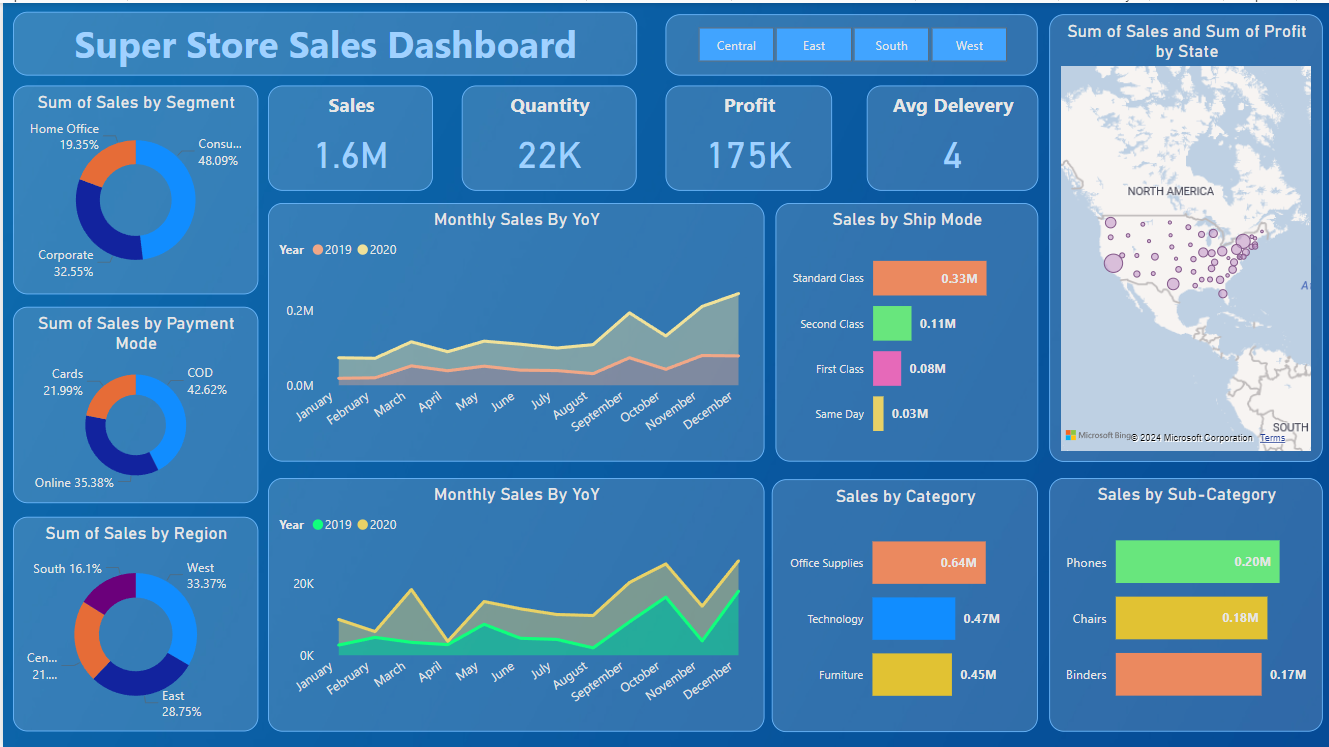

The dashboard page shown, as its layout file describes it:
{"tool":"powerbi","page":{"name":"Dashboard","canvas":[1280,720],"ordinal":1},"visuals":[{"type":"clusteredBarChart","title":"Sales by Category","fields":{"Category":["SuperStore_Sales_Dataset.Category"],"Y":["Sum(SuperStore_Sales_Dataset.Sales)"]},"box":[742,459.7,257,243.7],"z":0},{"type":"clusteredBarChart","title":"Sales by Sub-Category","fields":{"Y":["Sum(SuperStore_Sales_Dataset.Sales)"],"Category":["SuperStore_Sales_Dataset.Sub-Category"]},"box":[1009.8,458.4,264.2,244.9],"z":1000},{"type":"clusteredBarChart","title":"Sales by Ship Mode","fields":{"Y":["Sum(SuperStore_Sales_Dataset.Sales)"],"Category":["SuperStore_Sales_Dataset.Ship Mode"]},"box":[745.6,193,253.4,249.7],"z":2000},{"type":"stackedAreaChart","title":"Monthly Sales By YoY","fields":{"Category":["SuperStore_Sales_Dataset.Order Date.Variation.Date Hierarchy.Month","SuperStore_Sales_Dataset.Order Date.Variation.Date Hierarchy.Day"],"Y":["Sum(SuperStore_Sales_Dataset.Sales)"],"Series":["SuperStore_Sales_Dataset.Order Date.Variation.Date Hierarchy.Year"]},"box":[255.8,193,479,249.7],"z":3000},{"type":"stackedAreaChart","title":"Monthly Sales By YoY","fields":{"Category":["SuperStore_Sales_Dataset.Order Date.Variation.Date Hierarchy.Month","SuperStore_Sales_Dataset.Order Date.Variation.Date Hierarchy.Day"],"Series":["SuperStore_Sales_Dataset.Order Date.Variation.Date Hierarchy.Year"],"Y":["Sum(SuperStore_Sales_Dataset.Profit)"]},"box":[255.8,458.7,479,244.9],"z":4000},{"type":"map","fields":{"Category":["SuperStore_Sales_Dataset.State"],"Size":["Sum(SuperStore_Sales_Dataset.Sales)"]},"box":[1009.8,10.9,264.2,431.9],"z":5000},{"type":"donutChart","fields":{"Category":["SuperStore_Sales_Dataset.Segment"],"Y":["Sum(SuperStore_Sales_Dataset.Sales)"]},"box":[9.7,79.6,236.5,201.5],"z":6000},{"type":"donutChart","fields":{"Category":["SuperStore_Sales_Dataset.Payment Mode"],"Y":["Sum(SuperStore_Sales_Dataset.Sales)"]},"box":[9.7,293.2,236.5,189.4],"z":7000},{"type":"slicer","fields":{"Values":["SuperStore_Sales_Dataset.Region"]},"box":[639.4,10.9,359.5,59.1],"z":8000},{"type":"textbox","title":"Super Store Sales Dashboard","box":[9.7,8.4,602,61.5],"z":9000},{"type":"card","title":"Sales","fields":{"Values":["Sum(SuperStore_Sales_Dataset.Sales)"]},"box":[255.8,79.6,159.3,101.3],"z":10000},{"type":"card","title":"Profit","fields":{"Values":["Sum(SuperStore_Sales_Dataset.Profit)"]},"box":[639.4,79.6,160.5,101.3],"z":11000},{"type":"card","title":"Quantity","fields":{"Values":["Sum(SuperStore_Sales_Dataset.Quantity)"]},"box":[442.8,79.6,168.9,101.3],"z":12000},{"type":"card","title":"Avg Delevery","fields":{"Values":["Avg(SuperStore_Sales_Dataset.AvgDelicery)"]},"box":[833.7,79.6,165.3,101.3],"z":13000},{"type":"donutChart","fields":{"Category":["SuperStore_Sales_Dataset.Region"],"Y":["Sum(SuperStore_Sales_Dataset.Sales)"]},"box":[9.7,495.8,236.5,207.5],"z":14000}]}

Visuals, with their boxes in screenshot pixels (x1, y1, x2, y2), scaled from the page's 1280x720 canvas onto the 1329x747 screenshot:
"Sales by Category" clusteredBarChart: (x1=770, y1=477, x2=1037, y2=730)
"Sales by Sub-Category" clusteredBarChart: (x1=1048, y1=476, x2=1323, y2=730)
"Sales by Ship Mode" clusteredBarChart: (x1=774, y1=200, x2=1037, y2=459)
"Monthly Sales By YoY" stackedAreaChart: (x1=266, y1=200, x2=763, y2=459)
"Monthly Sales By YoY" stackedAreaChart: (x1=266, y1=476, x2=763, y2=730)
map - SuperStore_Sales_Dataset.State x Sum(SuperStore_Sales_Dataset.Sales): (x1=1048, y1=11, x2=1323, y2=459)
donutChart - SuperStore_Sales_Dataset.Segment x Sum(SuperStore_Sales_Dataset.Sales): (x1=10, y1=83, x2=256, y2=292)
donutChart - SuperStore_Sales_Dataset.Payment Mode x Sum(SuperStore_Sales_Dataset.Sales): (x1=10, y1=304, x2=256, y2=501)
slicer - SuperStore_Sales_Dataset.Region: (x1=664, y1=11, x2=1037, y2=73)
"Super Store Sales Dashboard" textbox: (x1=10, y1=9, x2=635, y2=73)
"Sales" card: (x1=266, y1=83, x2=431, y2=188)
"Profit" card: (x1=664, y1=83, x2=831, y2=188)
"Quantity" card: (x1=460, y1=83, x2=635, y2=188)
"Avg Delevery" card: (x1=866, y1=83, x2=1037, y2=188)
donutChart - SuperStore_Sales_Dataset.Region x Sum(SuperStore_Sales_Dataset.Sales): (x1=10, y1=514, x2=256, y2=730)
